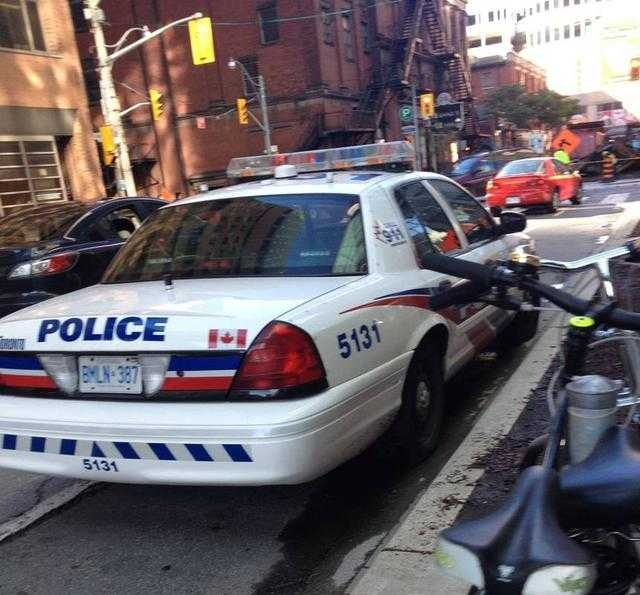Police Car: (8, 108, 545, 517)
